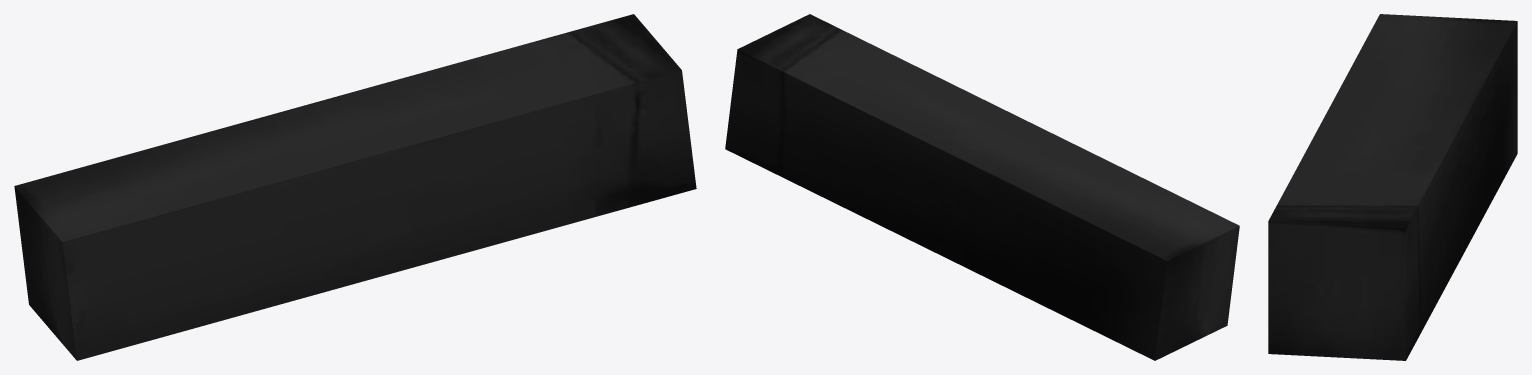
The model's file is frame__front_brace_1.glb.
3 views of the same model, side by side, from view 1: azimuth 30°, elevation 25°; view 2: azimuth 150°, elevation 25°; view 3: azimuth 270°, elevation 25° (orthographic). The views are drawn at different scales.
Visible parts, largest first — view 1: world; view 2: world; view 3: world.
Boxes of the visible parts, left/top/right/bottom form: world: left=14, top=14, right=696, bottom=360; world: left=725, top=14, right=1239, bottom=360; world: left=1268, top=14, right=1517, bottom=360.
Size of the model in its own units: 0.2543 by 0.0806 by 0.0893.
1 material, 1 textured.
